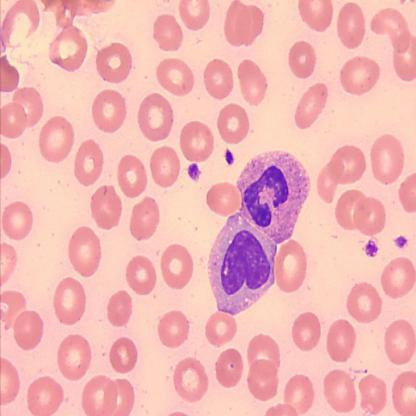Metamyelocyte: (205, 207, 280, 316), (234, 148, 316, 246)
